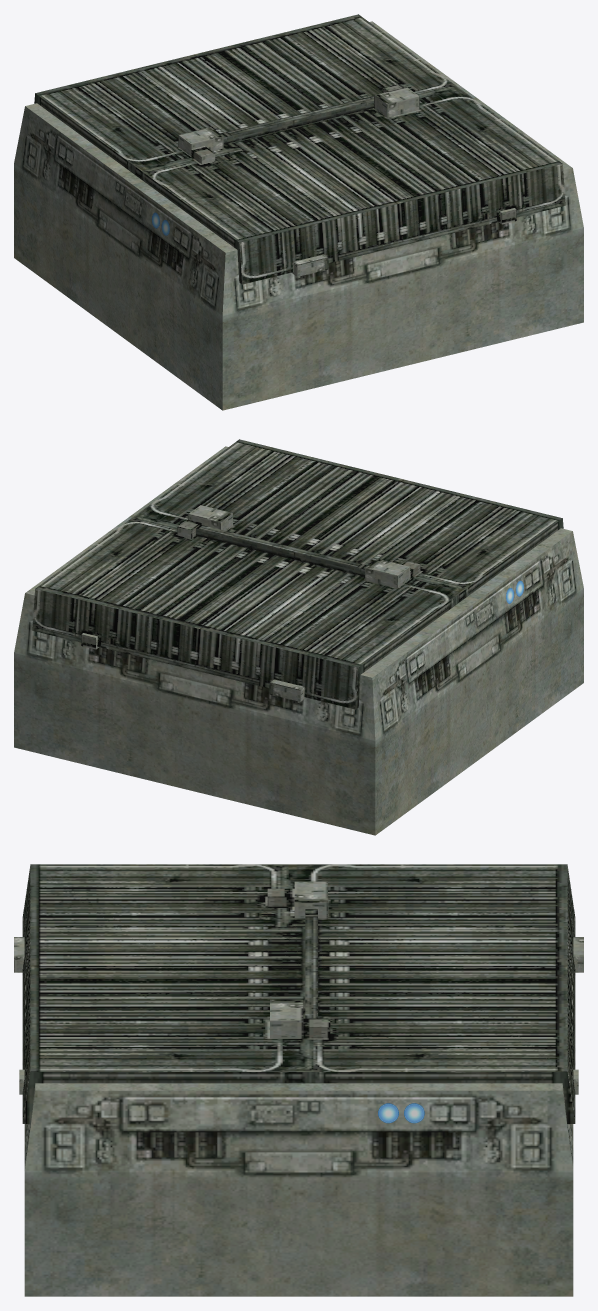
Rendered from thm_corl_power_box_node_l0.fbx.
3 views of the same model, one above another, from view 1: azimuth 30°, elevation 25°; view 2: azimuth 150°, elevation 25°; view 3: azimuth 270°, elevation 25° (orthographic). The views are drawn at different scales.
Parts seen in each view (by area): view 1: mesh_node; view 2: mesh_node; view 3: mesh_node.
Boxes of the visible parts, box(x1,y1,x2,y2) form: mesh_node: box(14, 14, 583, 410); mesh_node: box(14, 439, 583, 835); mesh_node: box(14, 864, 583, 1296).
Bounding box in the file's own units: 4 × 1.85 × 4.16.
